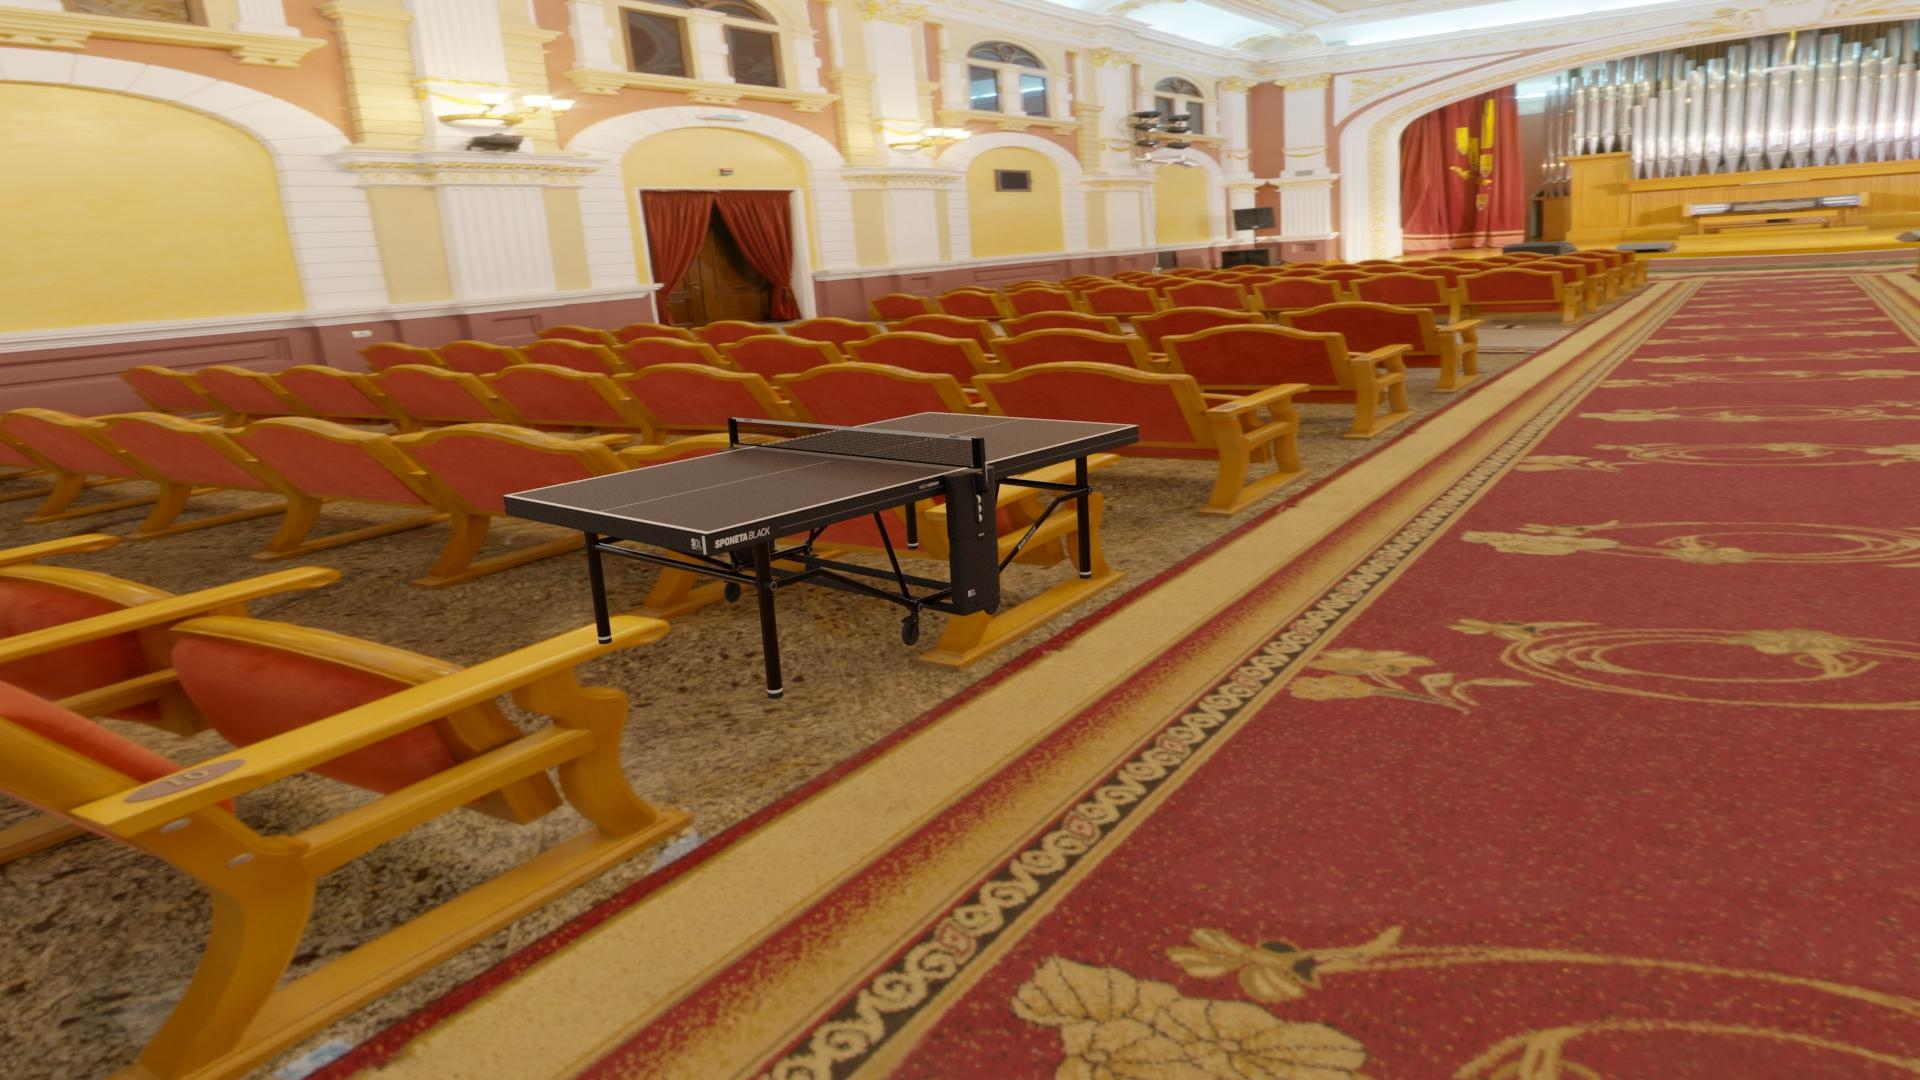table: (509, 413, 1133, 531)
